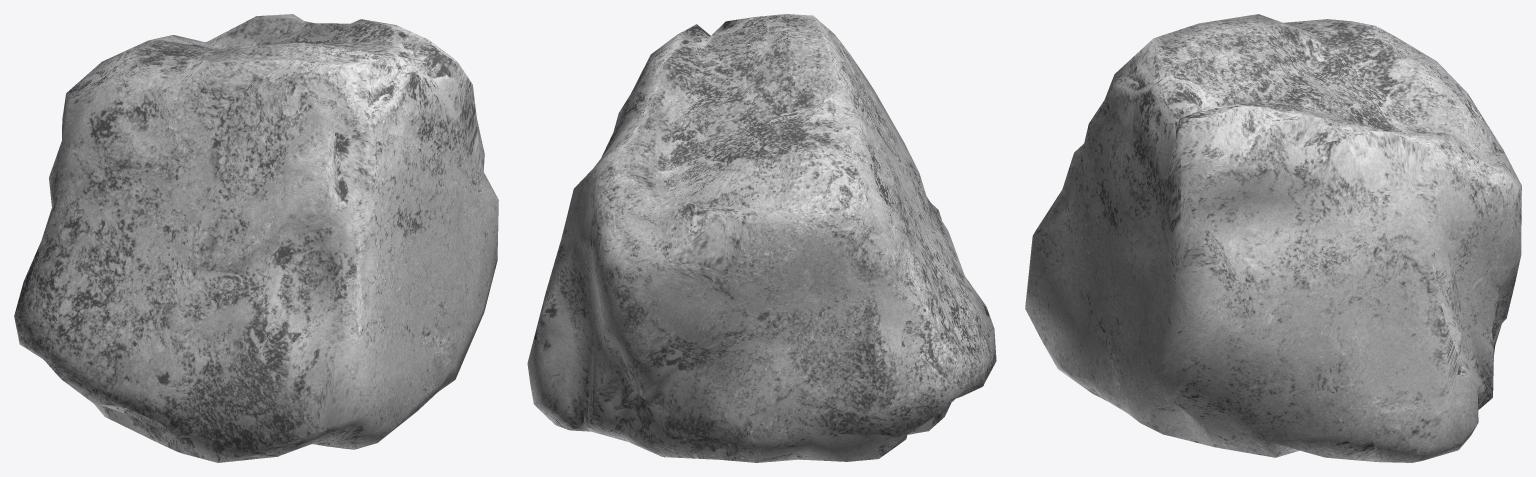
File: moon_rock_02.glb
The picture shows the model from 3 angles, left to right: view 1: azimuth 30°, elevation 25°; view 2: azimuth 150°, elevation 25°; view 3: azimuth 270°, elevation 25°; orthographic projection. The views are drawn at different scales.
Visible parts, largest first — view 1: moon_rock_02; view 2: moon_rock_02; view 3: moon_rock_02.
Boxes of the visible parts, left/top/right/bottom form: moon_rock_02: left=14, top=14, right=498, bottom=462; moon_rock_02: left=527, top=14, right=996, bottom=462; moon_rock_02: left=1025, top=14, right=1521, bottom=462.
Size of the model in its own units: 0.247 by 0.2024 by 0.2511.
Materials: 1 (1 with a texture image).
